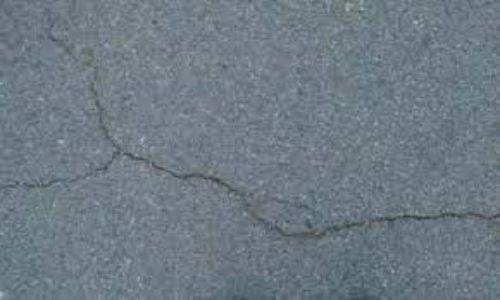crack: (116, 146, 500, 238), (33, 4, 123, 148), (0, 151, 119, 196)
